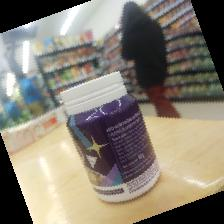Xylitol_BTS: (55, 71, 161, 205)
